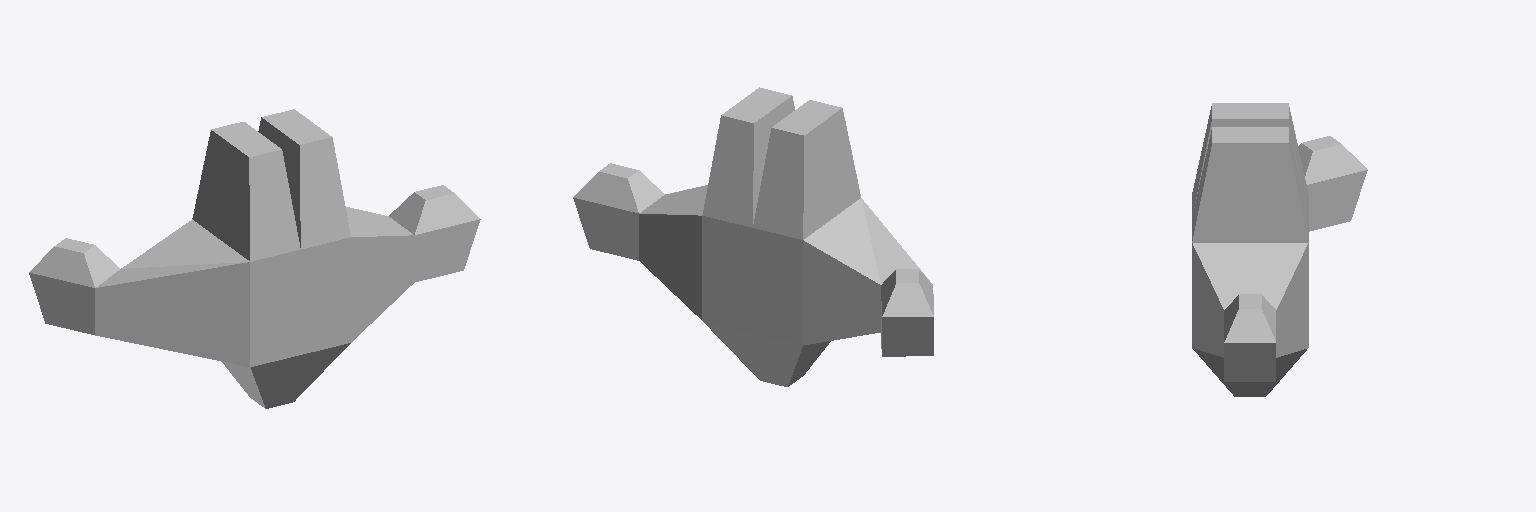
The model's file is idle_02.obj.
3 renders of one model, left to right at view 1: azimuth 30°, elevation 25°; view 2: azimuth 150°, elevation 25°; view 3: azimuth 270°, elevation 25°, orthographic.
Visible parts, largest first — view 1: Cube; view 2: Cube; view 3: Cube.
Boxes of the visible parts, x1=… form: Cube: x1=29, y1=109, x2=480, y2=408; Cube: x1=573, y1=87, x2=933, y2=386; Cube: x1=1192, y1=103, x2=1367, y2=396.
Size of the model in its own units: 7.81 by 5.06 by 3.02.